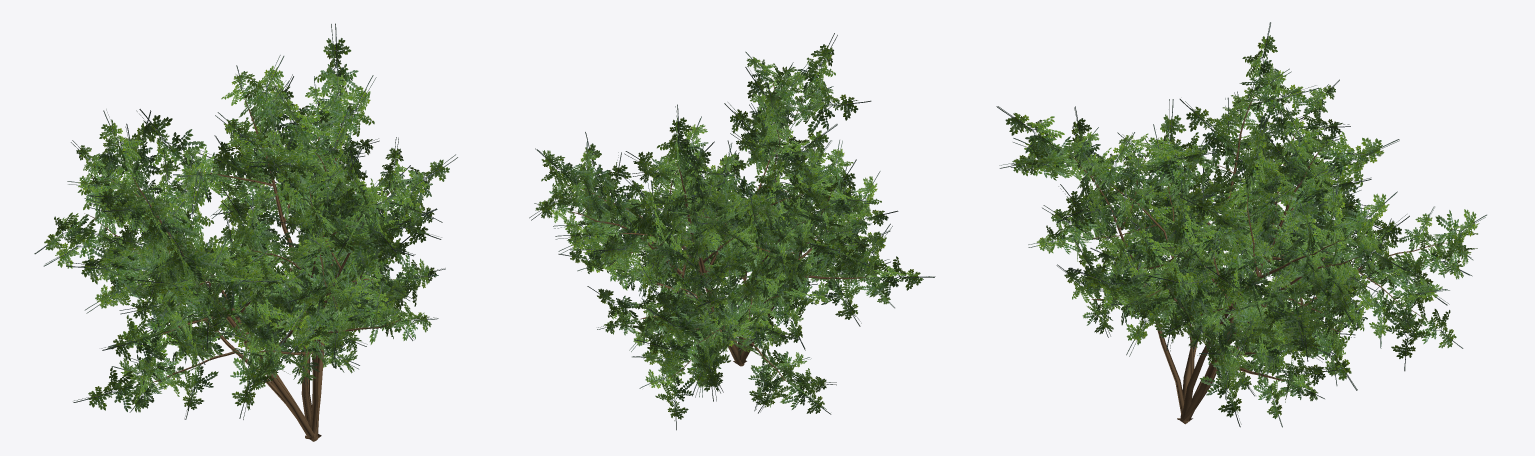
Rendered from underplanting-v2.glb.
3 views of the same model, side by side, from view 1: azimuth 30°, elevation 25°; view 2: azimuth 150°, elevation 25°; view 3: azimuth 270°, elevation 25° (orthographic). The views are drawn at different scales.
Parts seen in each view (by area): view 1: leaves, branches; view 2: leaves, branches; view 3: leaves, branches.
Boxes of the visible parts, x1,y1,x2,y2 form: leaves: (34, 23, 457, 419); branches: (84, 98, 402, 441); leaves: (529, 33, 935, 430); branches: (567, 77, 865, 382); leaves: (996, 22, 1486, 427); branches: (1070, 92, 1447, 424).
Bounding box in the file's own units: 1.3 × 1.05 × 1.52.
2 materials, 2 textured.
